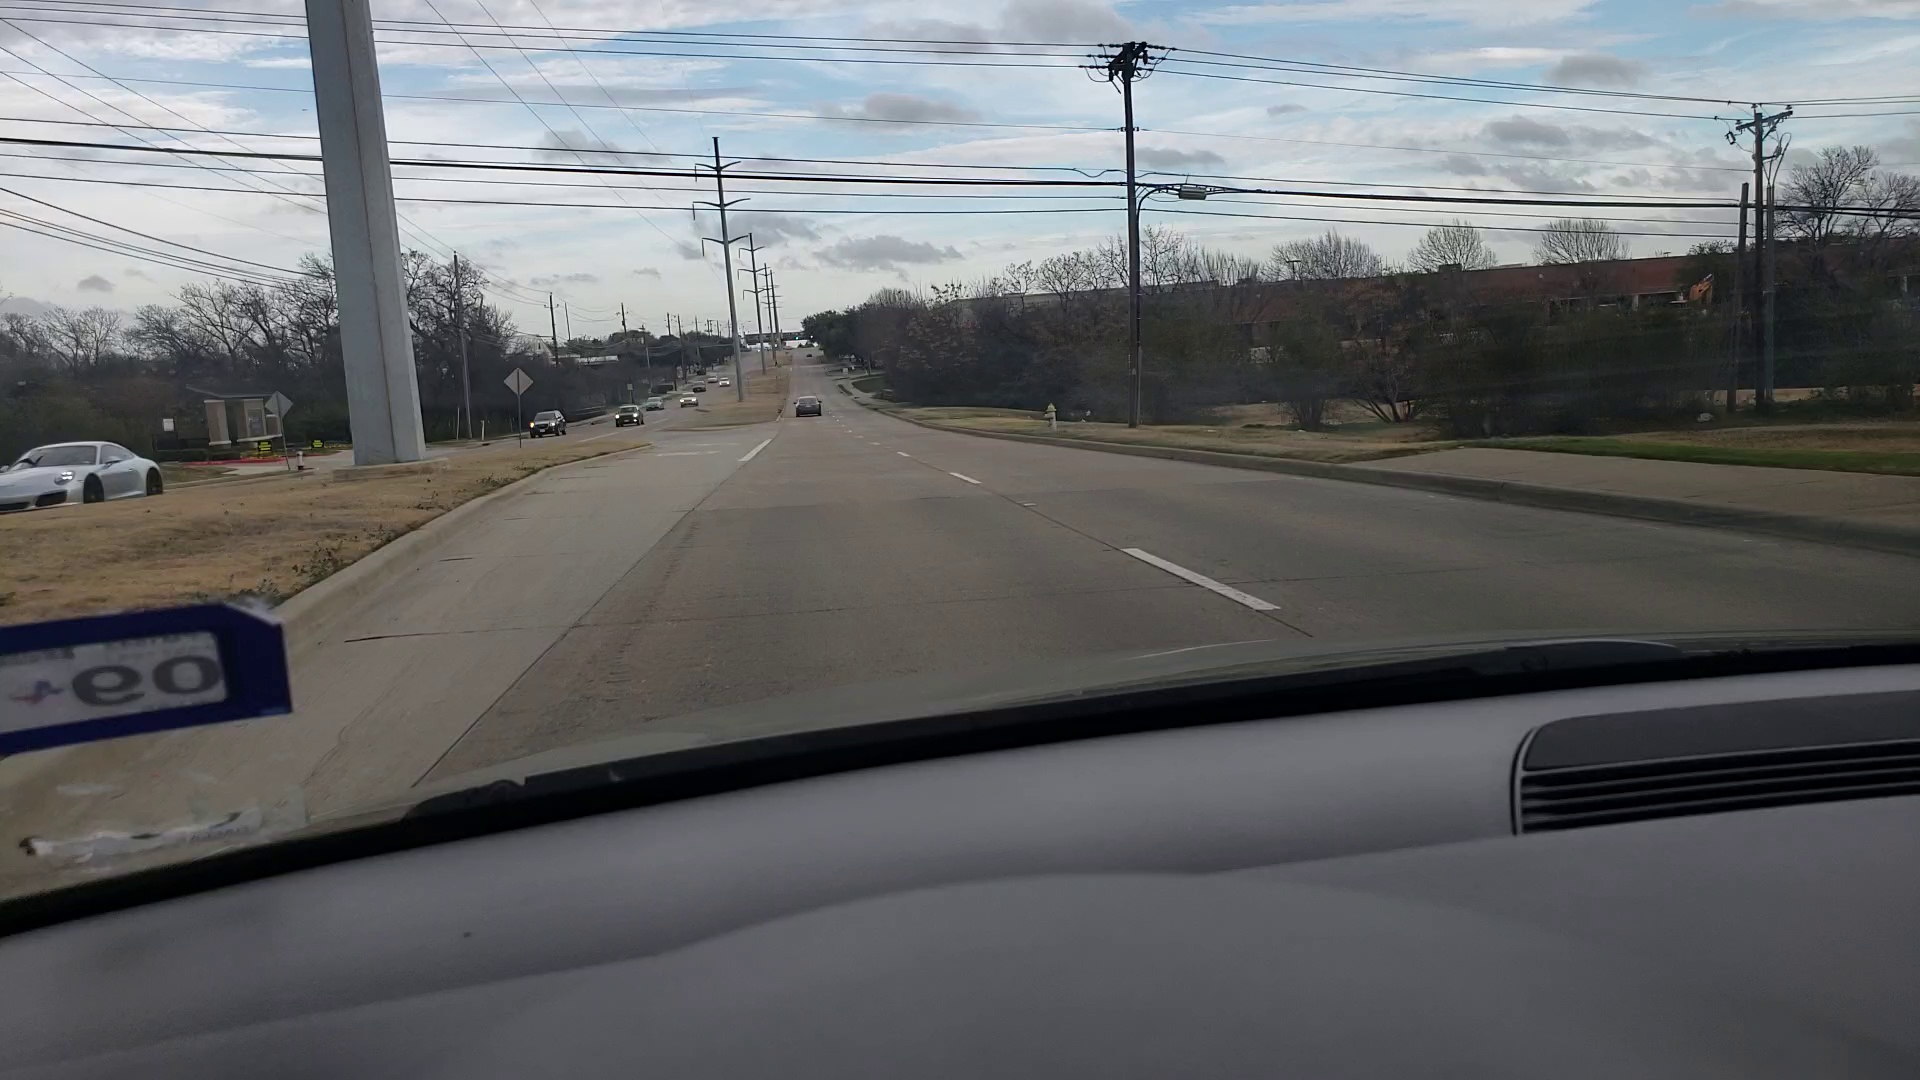car: (8, 436, 171, 512), (526, 410, 567, 435), (613, 405, 645, 427), (790, 396, 822, 415), (645, 396, 667, 413), (679, 392, 698, 405), (691, 378, 705, 392), (705, 373, 717, 384), (717, 377, 731, 386), (806, 351, 815, 357)
